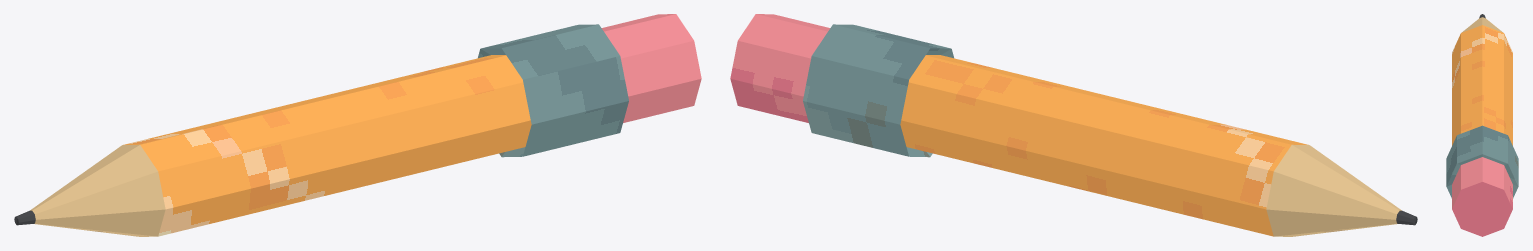
File: pencilShort.glb
3 views of the same model, side by side, from view 1: azimuth 30°, elevation 25°; view 2: azimuth 150°, elevation 25°; view 3: azimuth 270°, elevation 25° (orthographic). The views are drawn at different scales.
Parts seen in each view (by area): view 1: PencilShort; view 2: PencilShort; view 3: PencilShort.
Part boxes in pixels (box(x1,y1,x2,y2)): PencilShort: box(14, 14, 701, 236); PencilShort: box(730, 14, 1417, 236); PencilShort: box(1446, 14, 1518, 236).
Size of the model in its own units: 0.1336 by 0.0211 by 0.0211.
5 materials, 5 textured.
